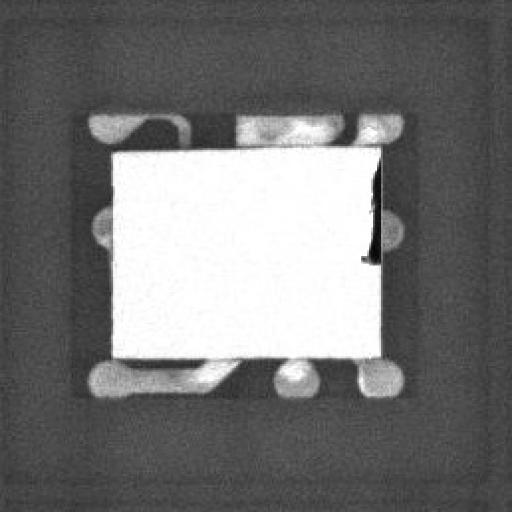DIE_BROKEN: (355, 156, 383, 268)
